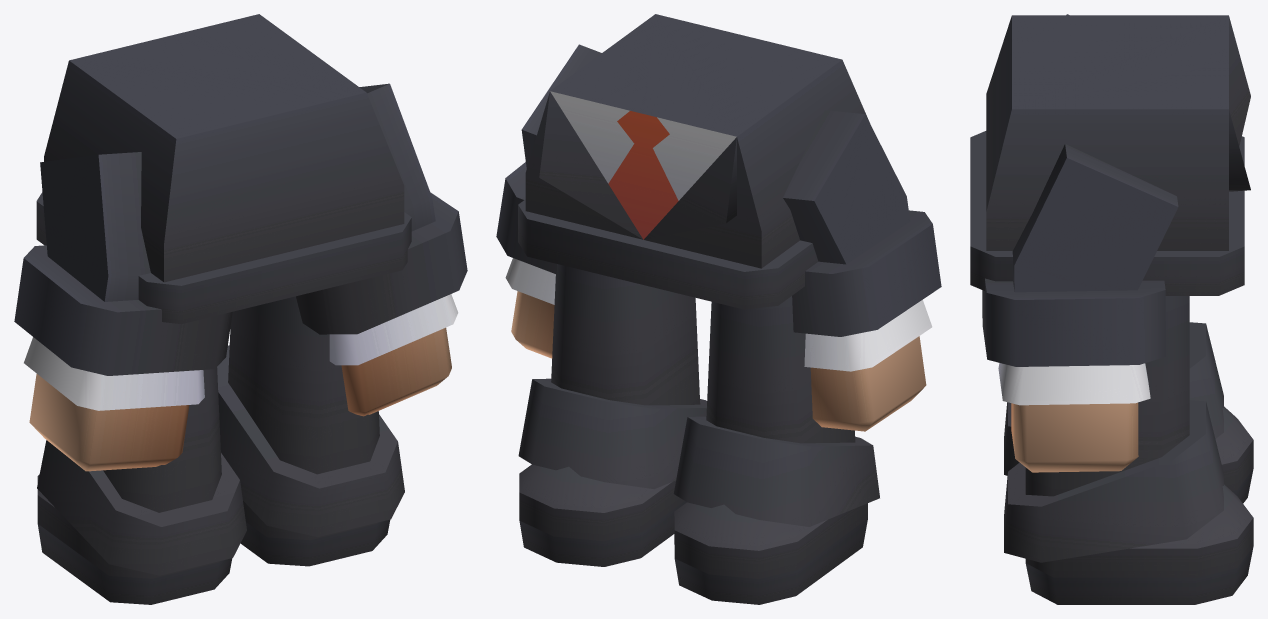
File: mini-male-d.glb
3 views of the same model, side by side, from view 1: azimuth 30°, elevation 25°; view 2: azimuth 150°, elevation 25°; view 3: azimuth 270°, elevation 25° (orthographic). The views are drawn at different scales.
Parts seen in each view (by area): view 1: body-mesh; view 2: body-mesh; view 3: body-mesh.
Boxes of the visible parts, bbox=[...] form: body-mesh: bbox=[14, 14, 467, 604]; body-mesh: bbox=[496, 14, 941, 604]; body-mesh: bbox=[970, 14, 1253, 604].
Size of the model in its own units: 1.23 by 1.4 by 0.7551.
1 material, 1 textured.
